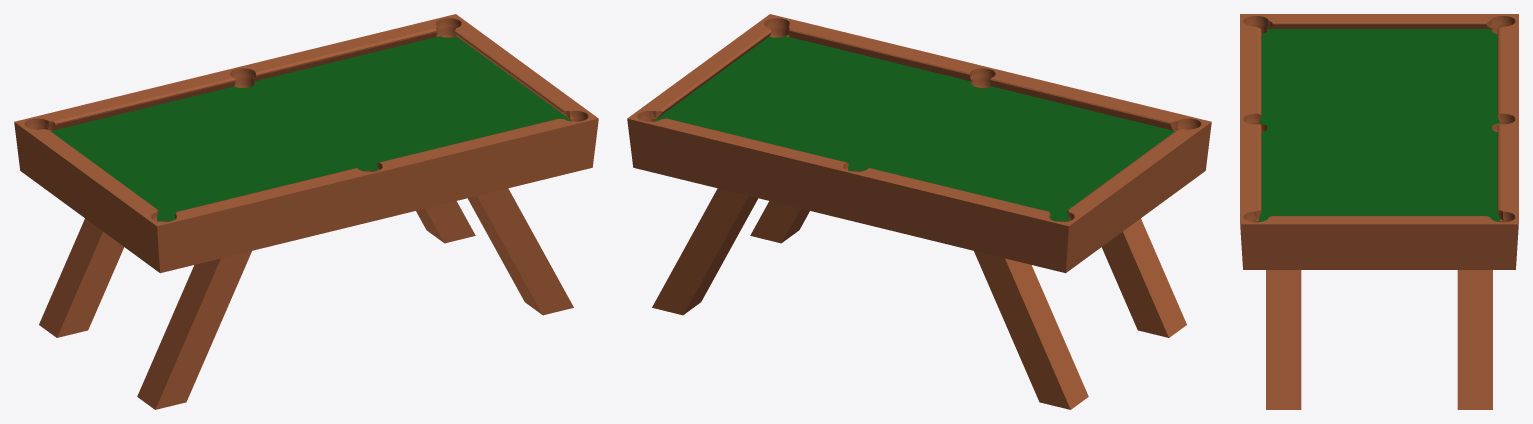
File: tischglb.glb
The picture shows the model from 3 angles, left to right: view 1: azimuth 30°, elevation 25°; view 2: azimuth 150°, elevation 25°; view 3: azimuth 270°, elevation 25°; orthographic projection. The views are drawn at different scales.
Parts seen in each view (by area): view 1: Cube.008; view 2: Cube.008; view 3: Cube.008.
Part boxes in pixels (box(x1,y1,x2,y2)): Cube.008: box(14, 14, 598, 409); Cube.008: box(627, 14, 1211, 409); Cube.008: box(1240, 14, 1518, 409).
Bounding box in the file's own units: 5.01 × 2.12 × 2.8.
